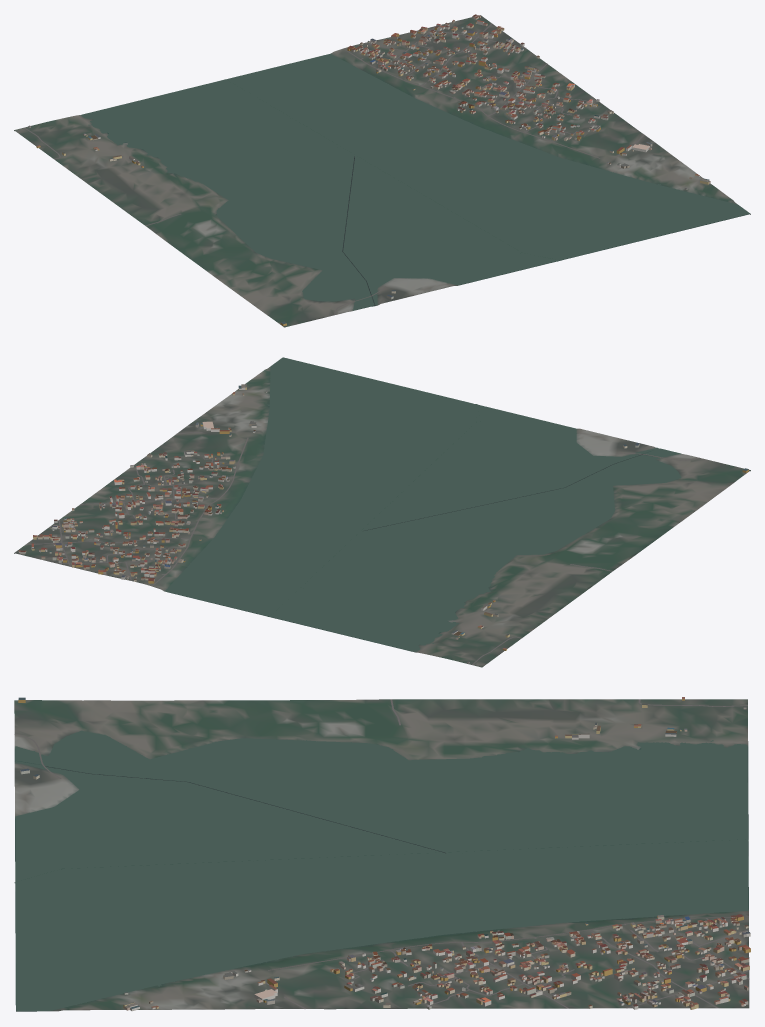
The picture shows the model from 3 angles, top to bottom: view 1: azimuth 30°, elevation 25°; view 2: azimuth 150°, elevation 25°; view 3: azimuth 270°, elevation 25°; orthographic projection. The views are drawn at different scales.
Parts seen in each view (by area): view 1: water, ground, buildings, roads; view 2: water, ground, buildings, roads; view 3: water, ground, buildings, roads.
Boxes of the visible parts, x1,y1,x2,y2 form: water: [81, 53, 749, 310]; ground: [14, 15, 750, 327]; buildings: [28, 14, 710, 326]; roads: [23, 23, 644, 314]; water: [165, 357, 681, 651]; ground: [14, 363, 750, 667]; buildings: [18, 383, 748, 663]; roads: [25, 432, 699, 664]; water: [14, 730, 748, 1010]; ground: [14, 699, 749, 1011]; buildings: [18, 697, 750, 1011]; roads: [14, 699, 749, 1008].
Size of the model in its own units: 1412 by 20.28 by 1408.
